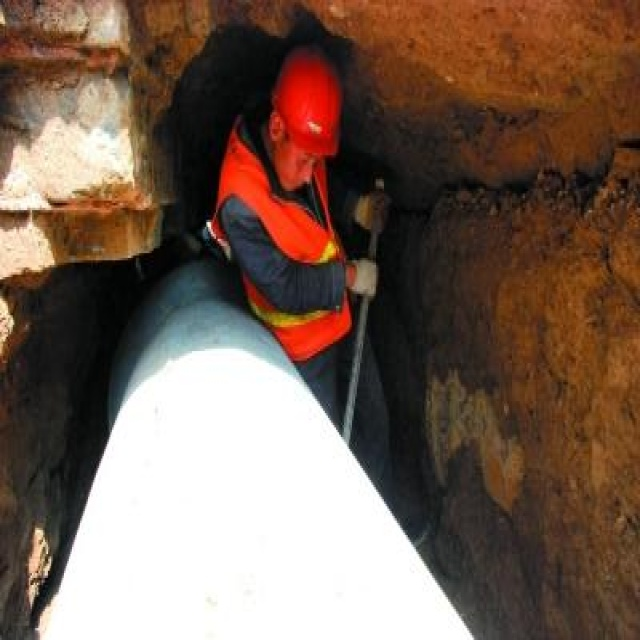Helmet: (257, 27, 346, 210)
Reflective vest: (210, 121, 364, 365)
